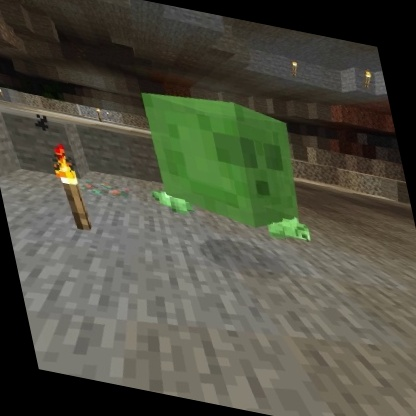slime: (134, 80, 315, 242)
